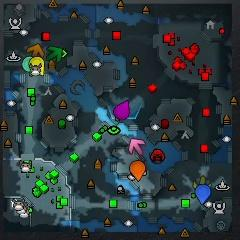p1: (195, 184, 210, 204)
p2: (23, 56, 35, 72)
p3: (114, 100, 130, 120)
p4: (30, 57, 45, 76)
p5: (129, 161, 145, 181)
x1: (129, 138, 145, 155)
x2: (193, 175, 212, 189)
x4: (46, 46, 62, 62)
x5: (27, 43, 44, 57)
